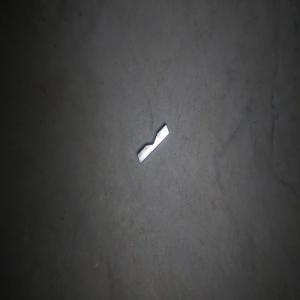ClampPart: (137, 123, 169, 164)
